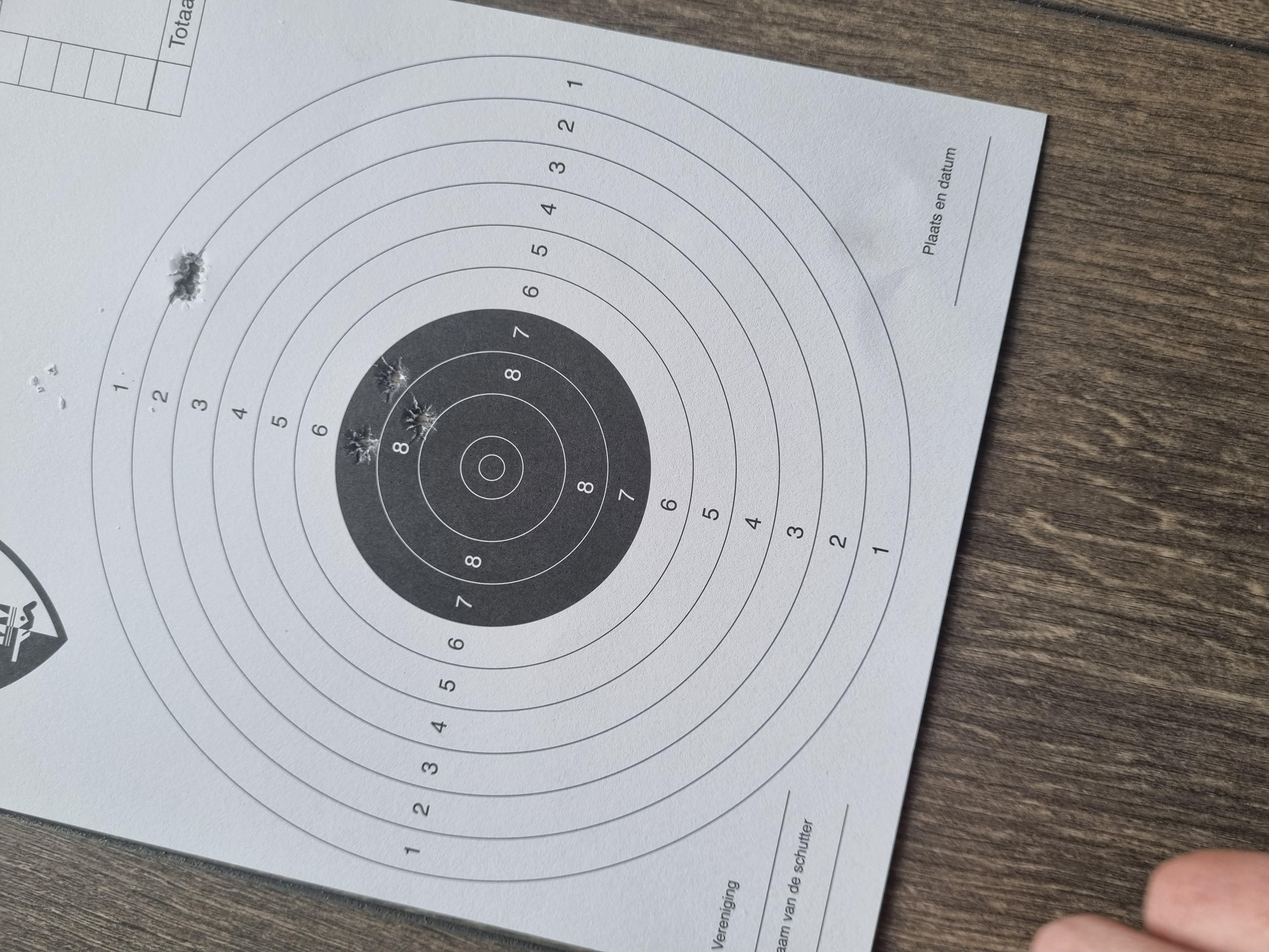hole: (675, 303, 745, 327), (730, 281, 795, 306), (649, 259, 703, 284), (898, 127, 936, 154), (863, 126, 899, 149)
